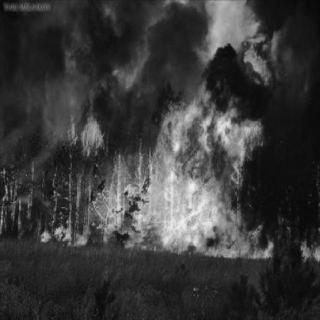Fire: (10, 42, 316, 255)
Smoke: (254, 1, 316, 167)
